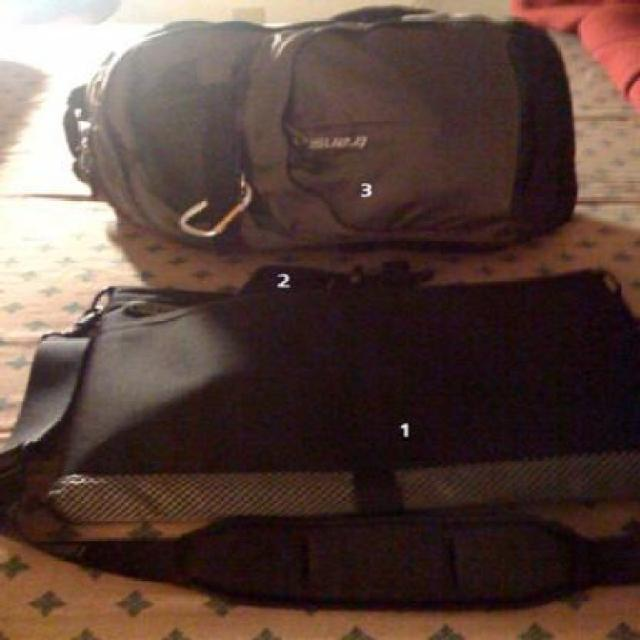backpack: (0, 258, 640, 612), (54, 1, 588, 257)
